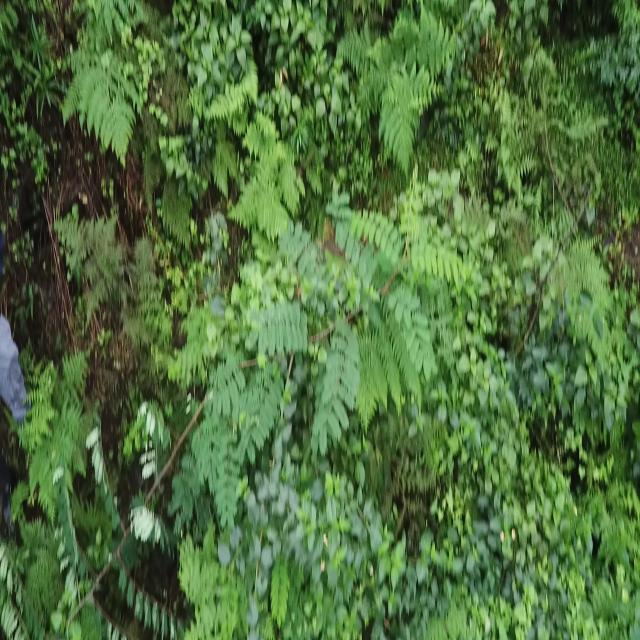Mysore-Thorn-Weed: (203, 162, 470, 460), (0, 342, 238, 640)
